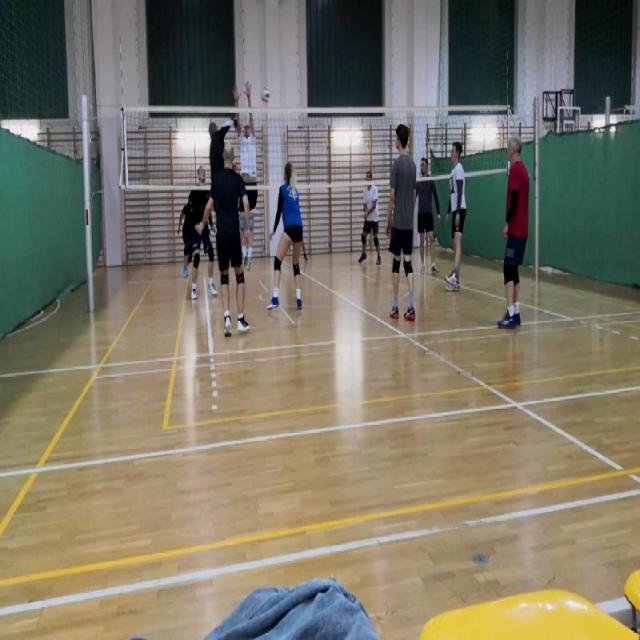volleyball: (261, 85, 270, 101)
